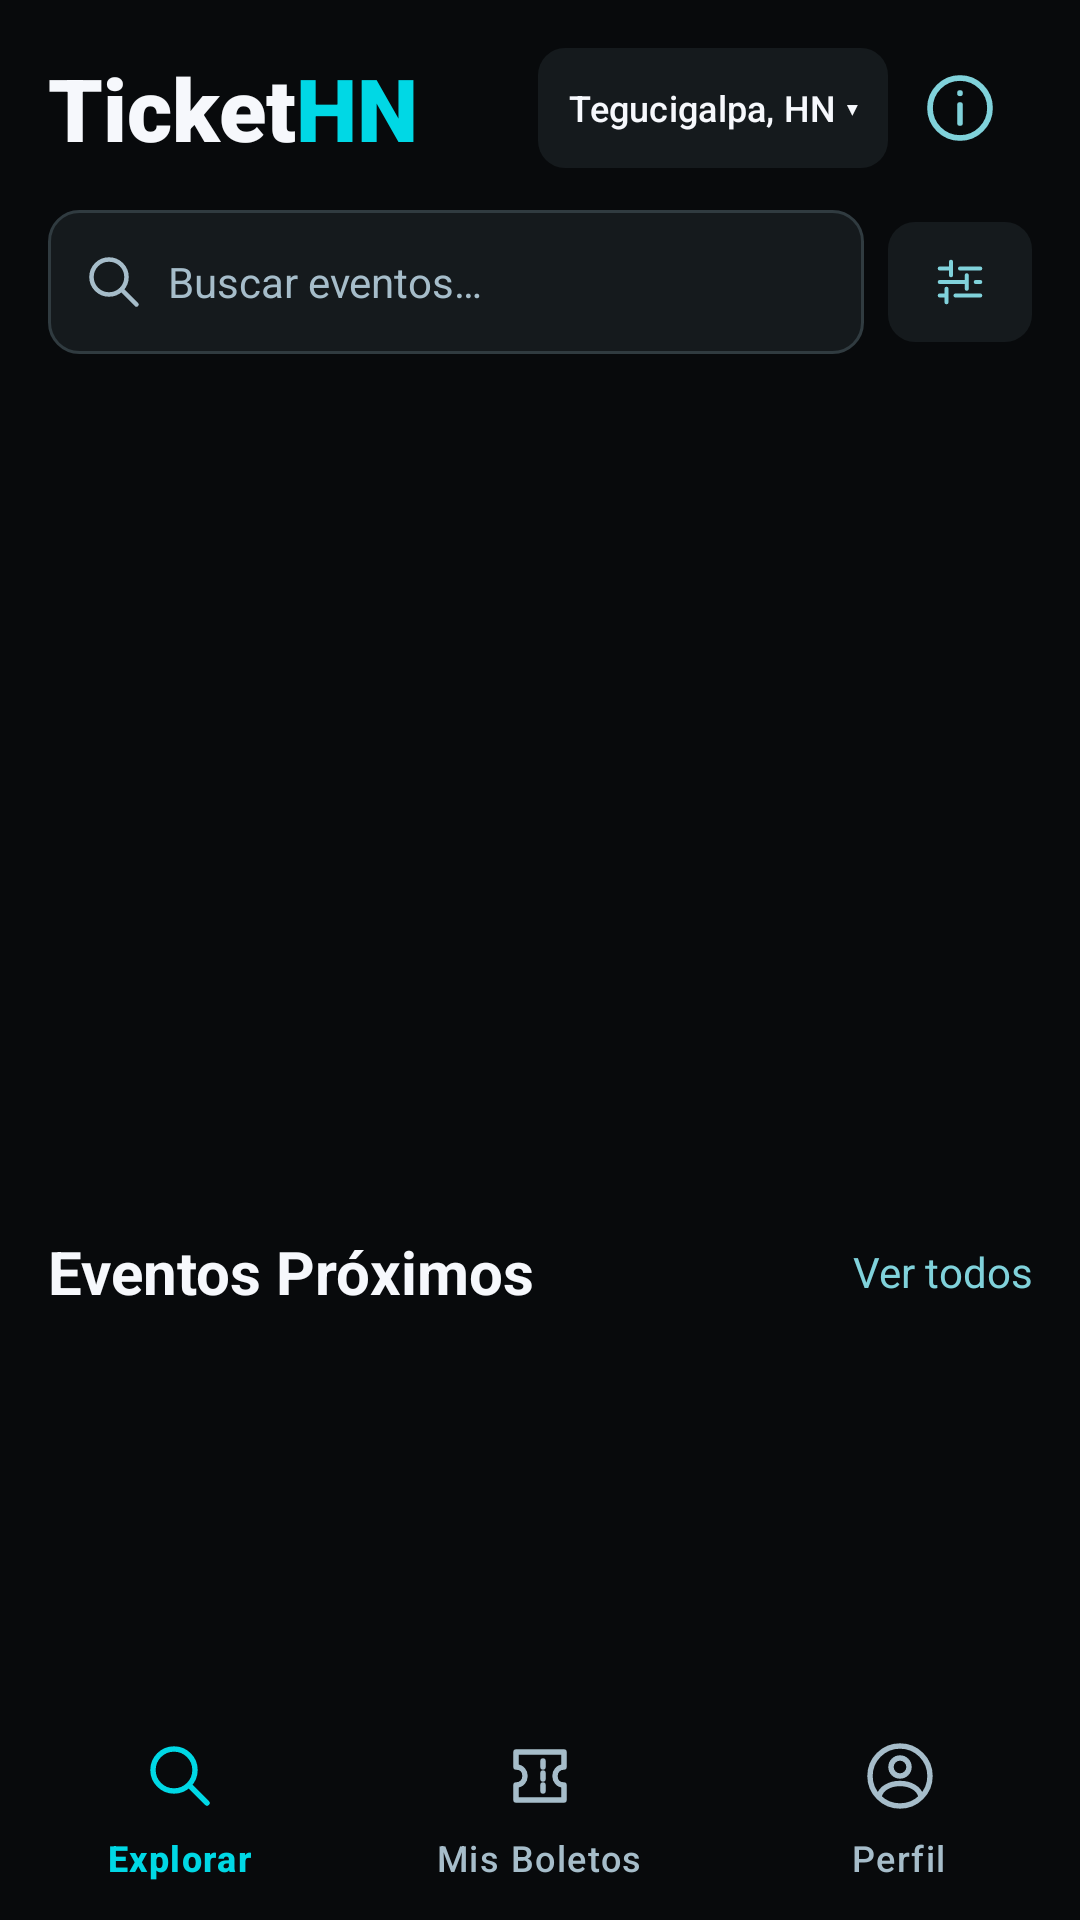

Where to tap for icons on this 1080w x 1920h app screen, as point (x, y):
Acerca de TicketHN: point (960, 108)
Filtrar eventos: point (960, 282)
search: point (114, 282)
